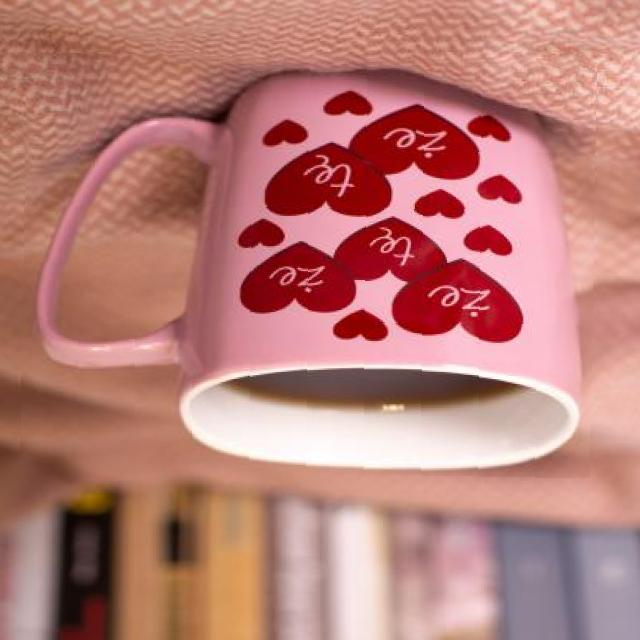cup: (19, 52, 596, 478)
